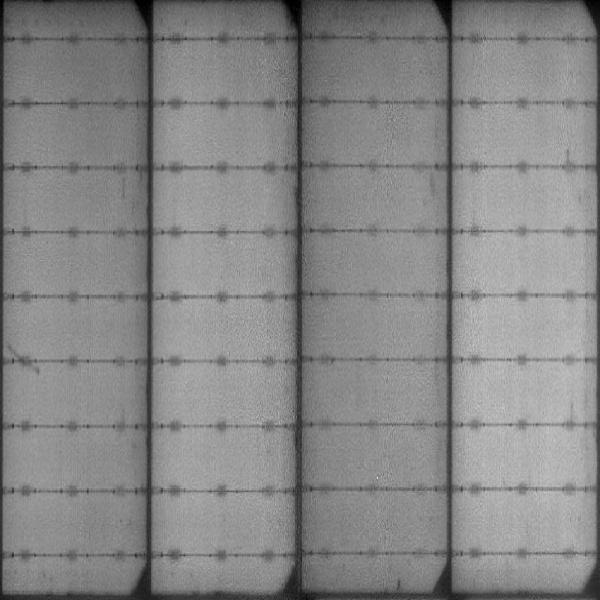scratch: (5, 341, 42, 380), (120, 171, 146, 220)
